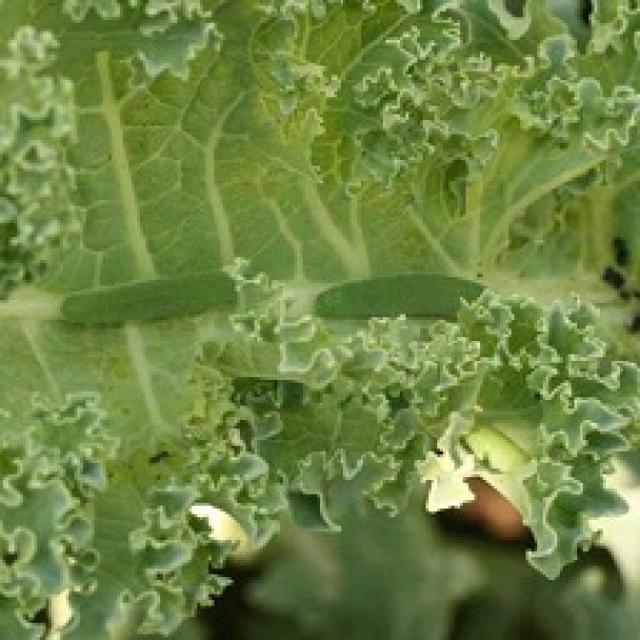Cabbage-worm: (57, 263, 265, 339), (313, 266, 501, 343)
